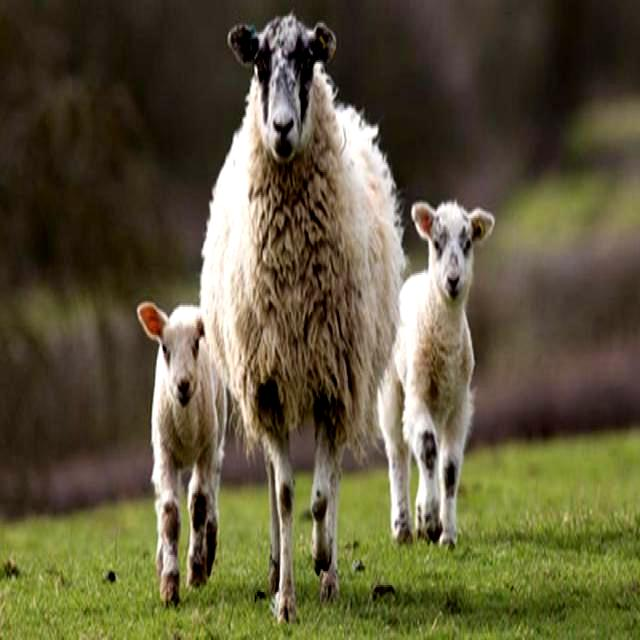sheep: (198, 16, 402, 629), (378, 201, 493, 548), (136, 303, 227, 602)
